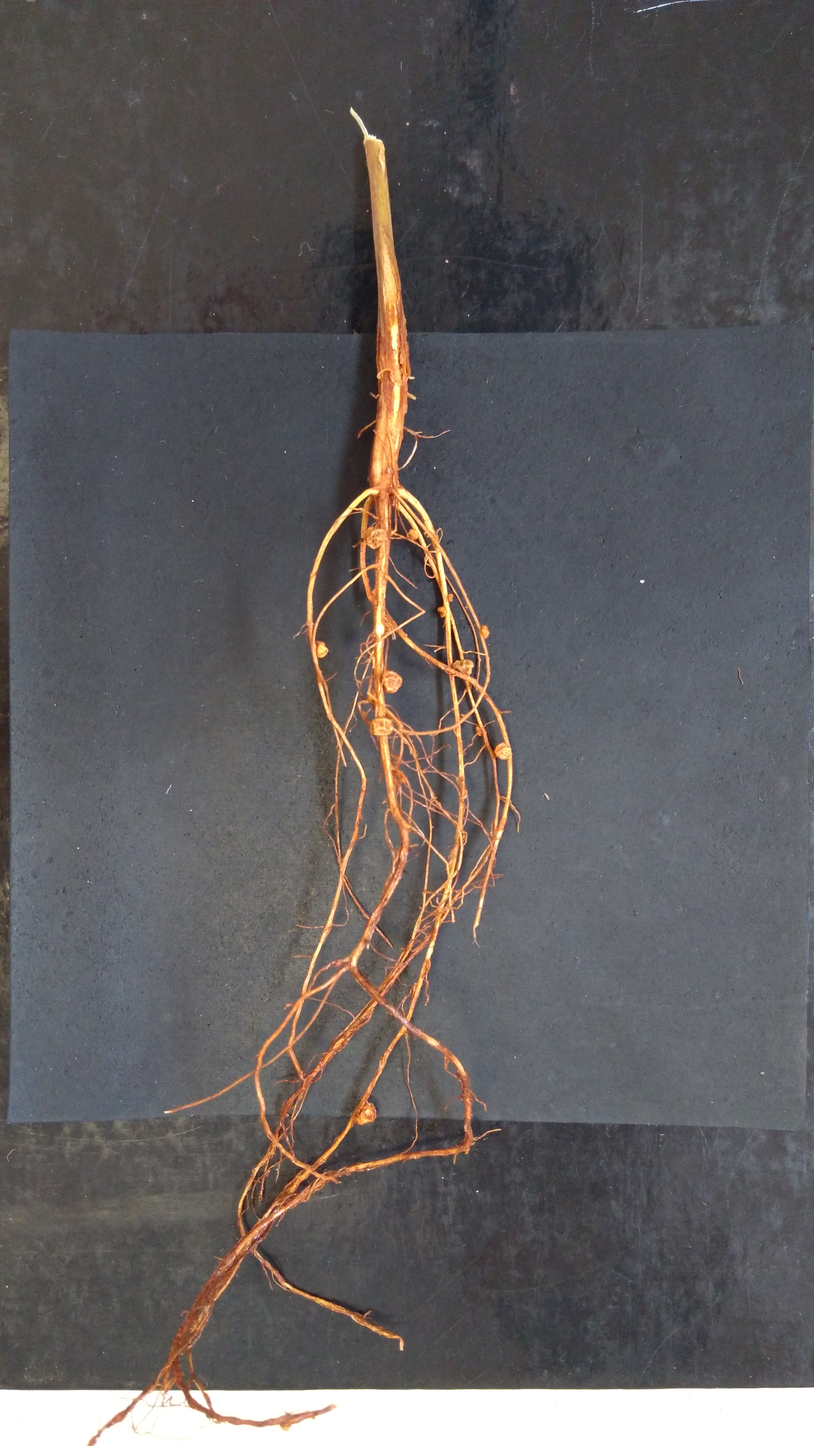nodule: (362, 525, 389, 551), (354, 1101, 378, 1128), (381, 669, 404, 695), (368, 716, 396, 737), (451, 658, 475, 676), (493, 741, 512, 761), (314, 639, 330, 659), (406, 528, 421, 542), (480, 622, 490, 640), (436, 605, 448, 619), (474, 725, 484, 737), (447, 593, 454, 603)
